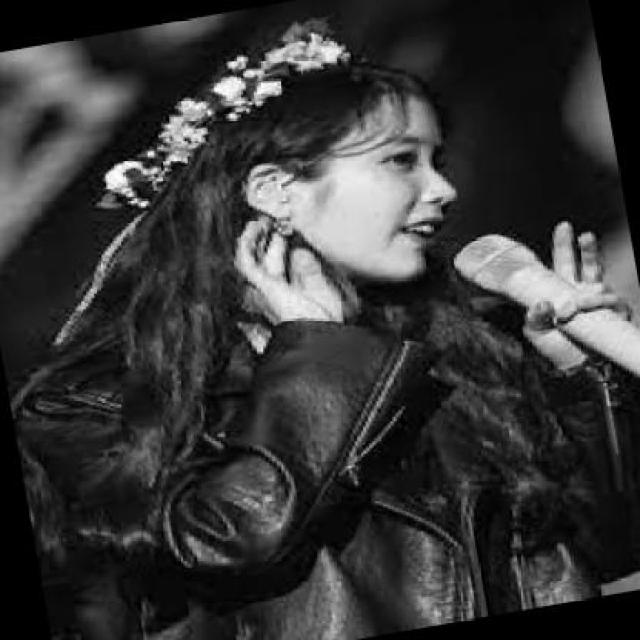earphone: (253, 171, 296, 220)
